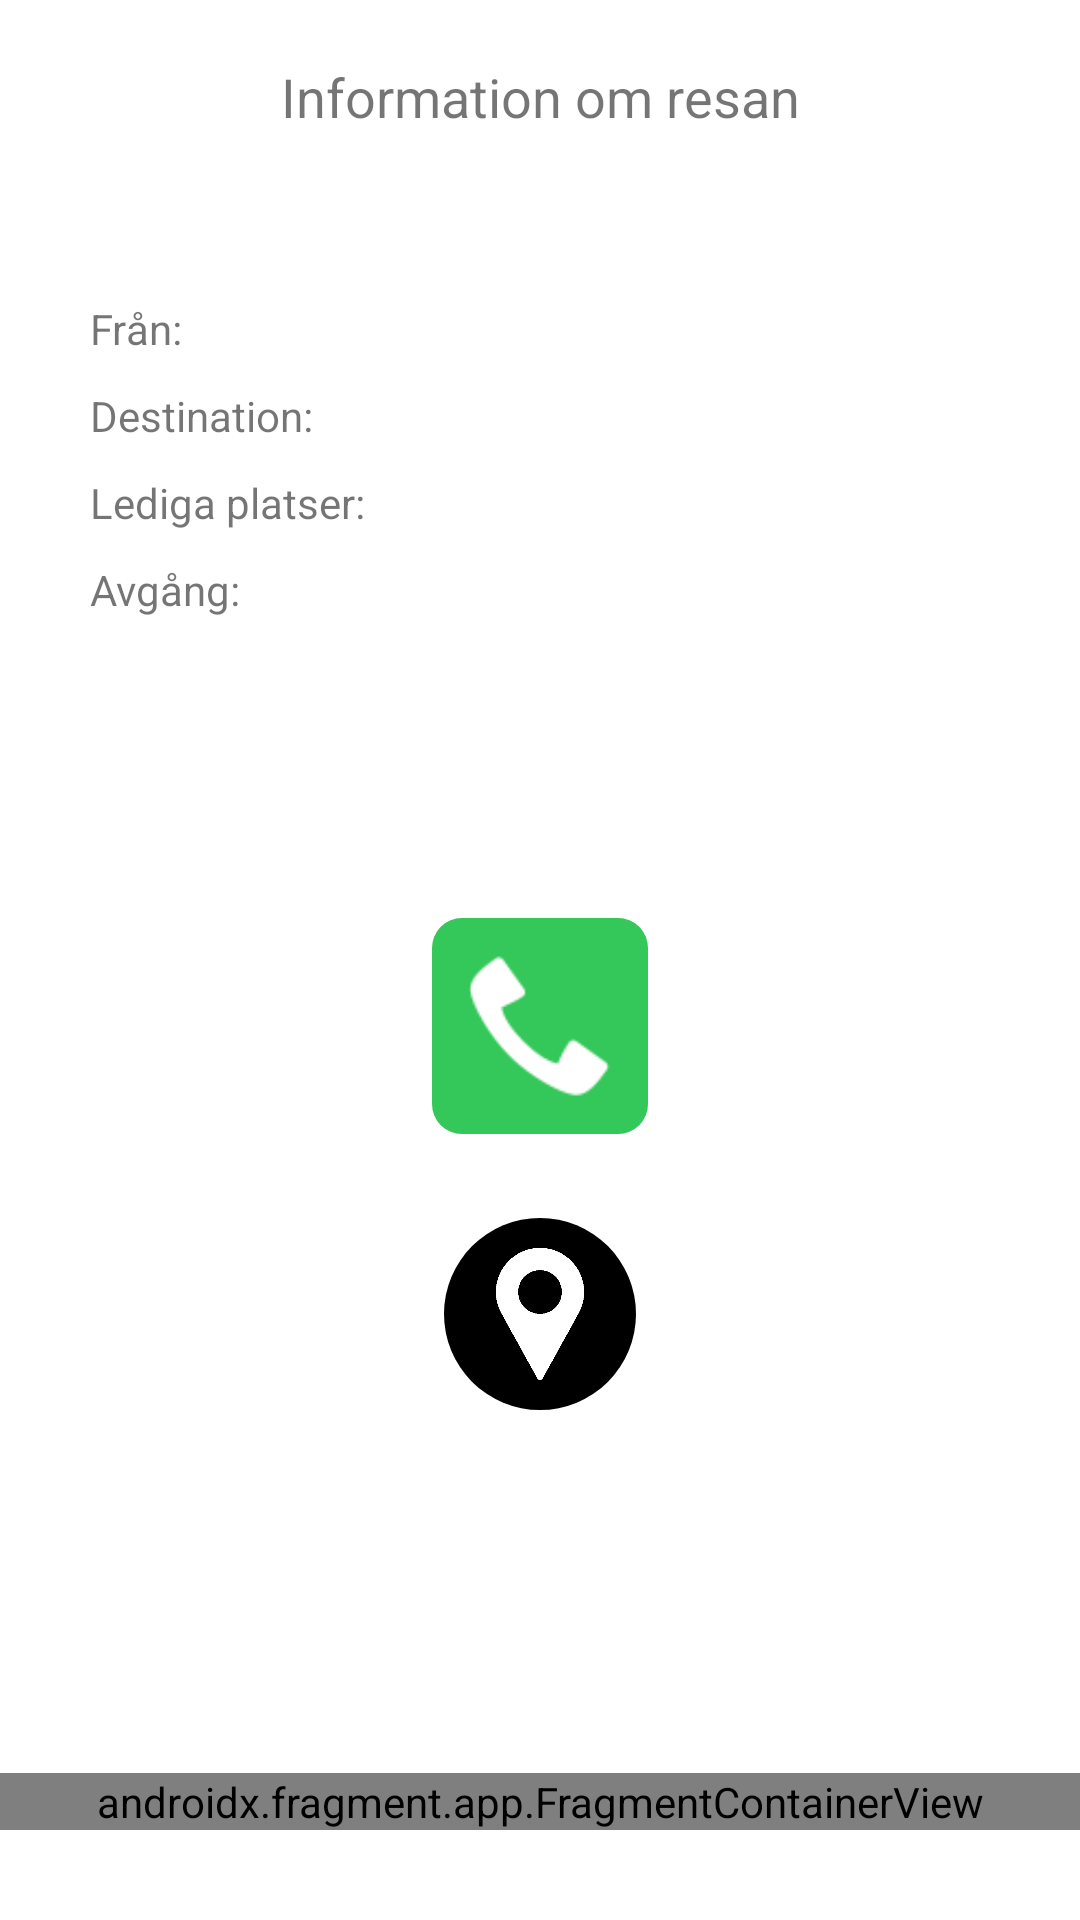

Named icons in this screenshot (1080×1920) and their bounding boxes, (x1, y1, x2, y2):
location marker: (444, 1218, 636, 1410)
phone call: (432, 918, 648, 1134)
